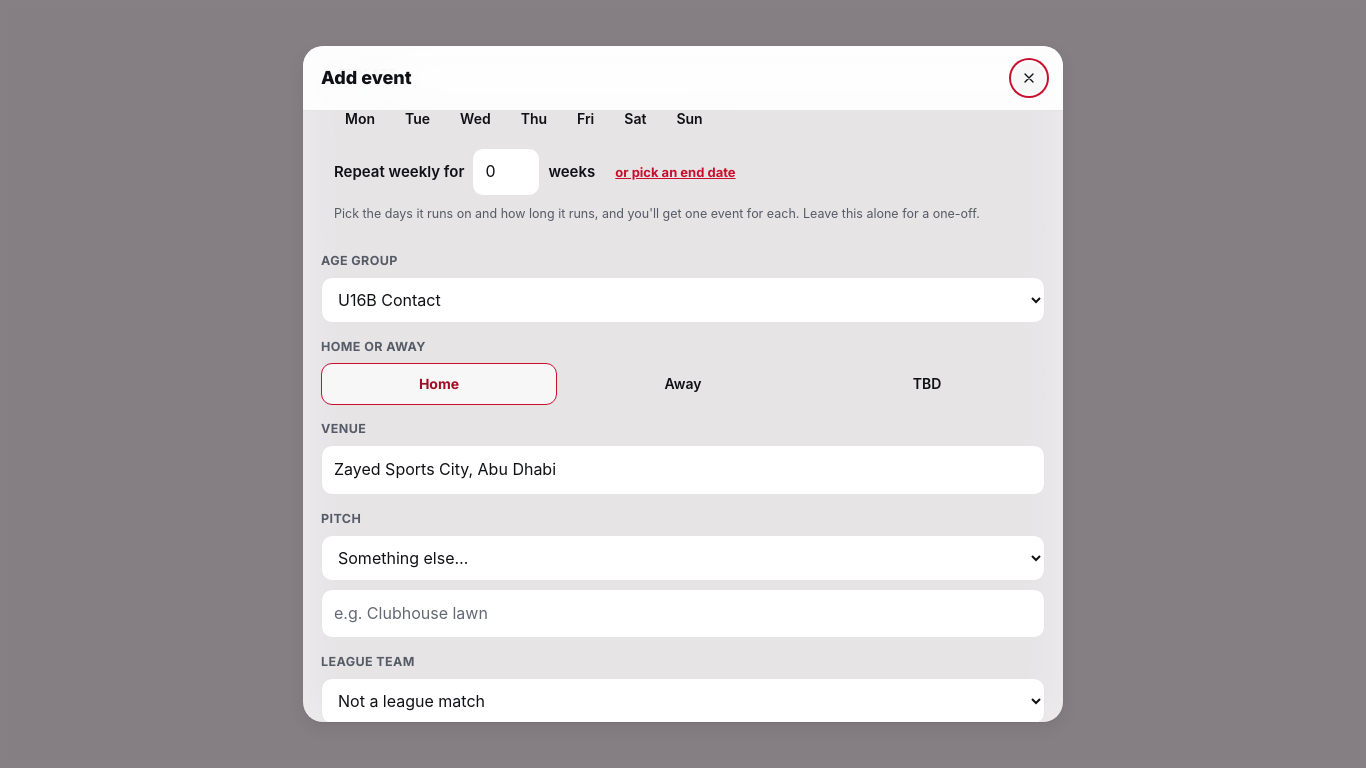
EventForm — saving a league placeholder › ⚠️ Home/away TBD does not force the venue to Zayed Sports City
(page scrolled)
Expected: the dropdown labelled "League team" is shown, [321, 678, 1045, 722]
Expected: the field labelled "Venue" holds "Zayed Sports City, Abu Dhabi", [321, 445, 1045, 495]
Click the radio button labelled "TBD": (927, 384) [809, 363, 1045, 405]
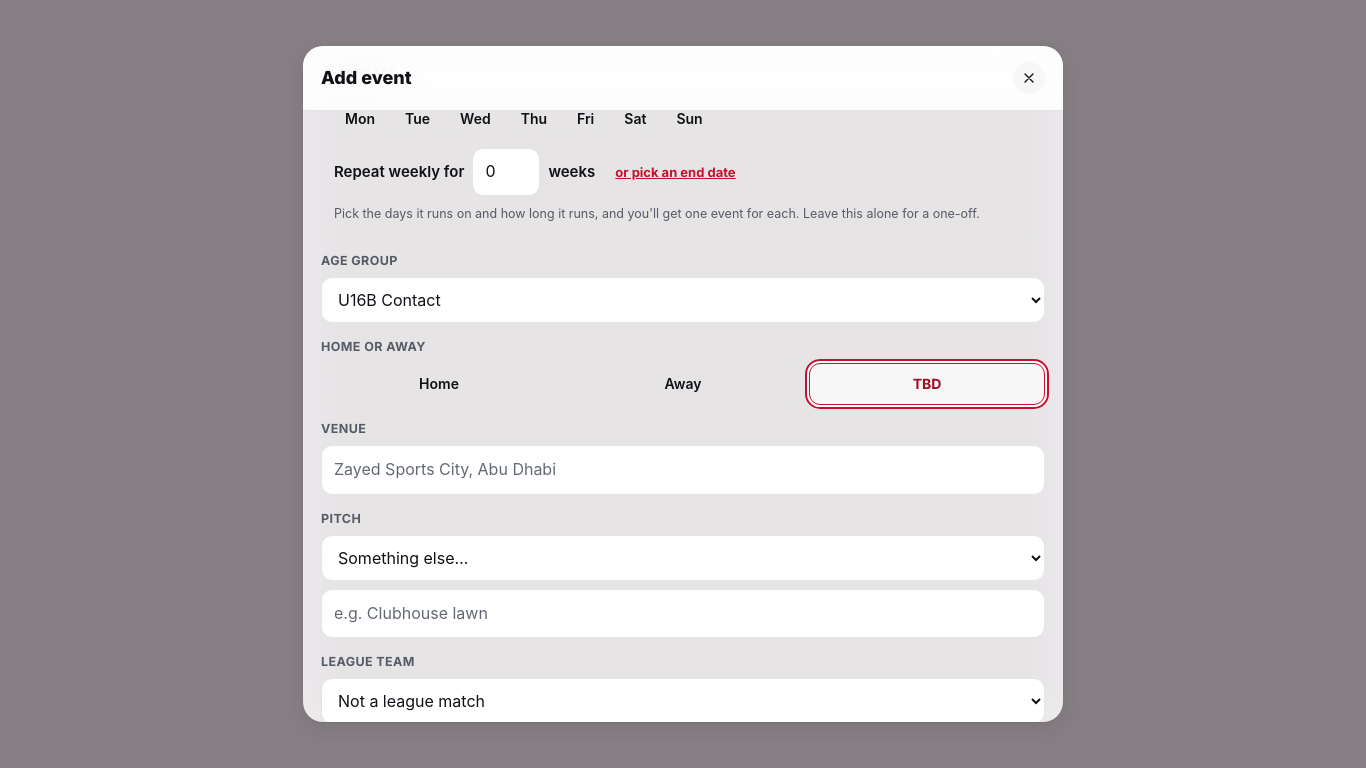
Result: the field labelled "Venue" is empty at [321, 445, 1045, 495]
Note: Leaving TBD restores the default into the blank it left behind.
Click the radio button labelled "Home": (439, 384) [321, 363, 557, 405]
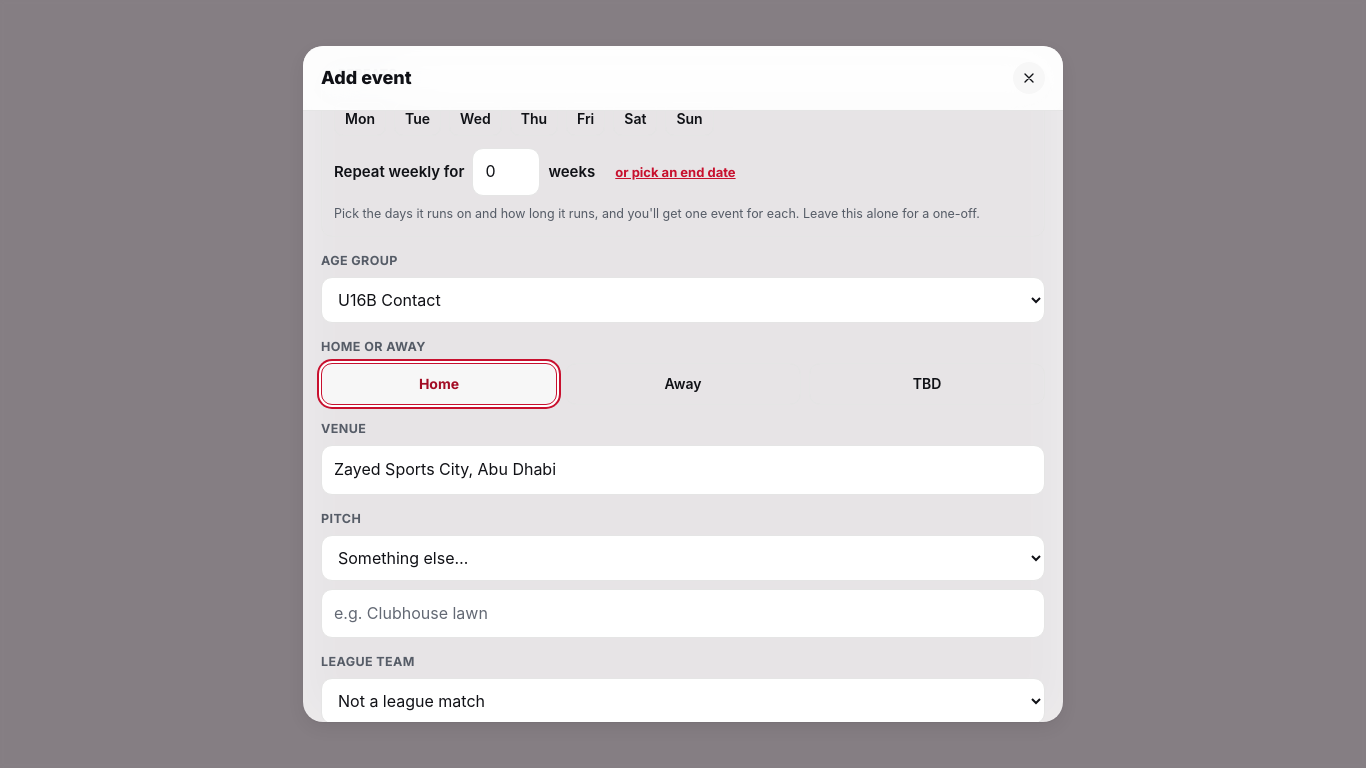
Result: the field labelled "Venue" holds "Zayed Sports City, Abu Dhabi" at [321, 445, 1045, 495]
